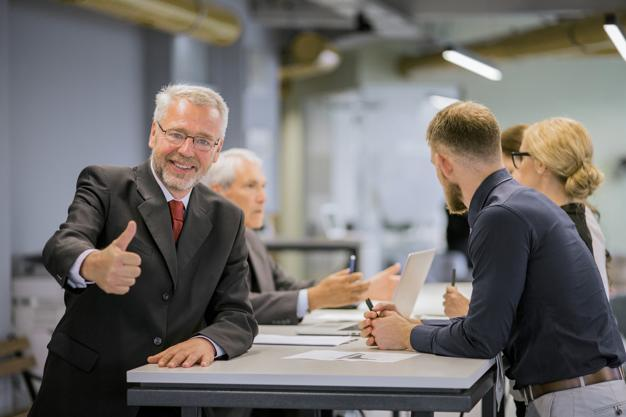thumbsup: (104, 219, 143, 295)
